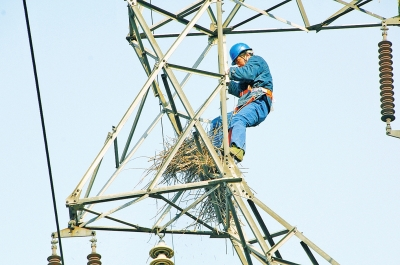bird-nest: (163, 141, 230, 178)
